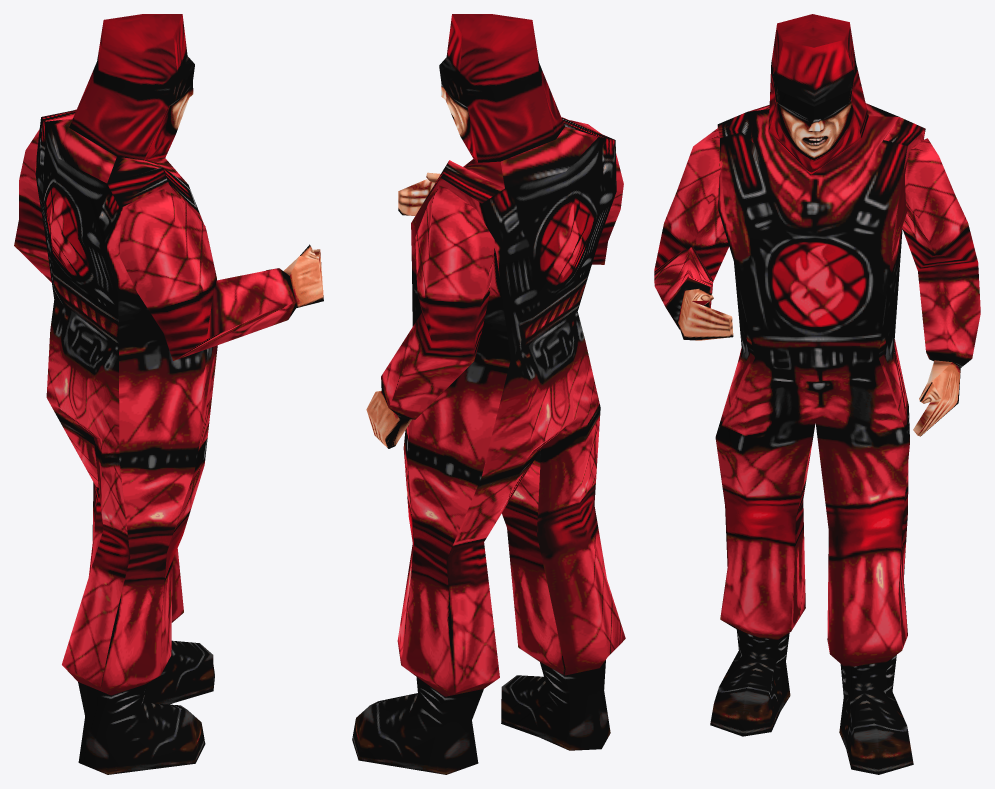
File: pyro2_red.glb
3 views of the same model, side by side, from view 1: azimuth 30°, elevation 25°; view 2: azimuth 150°, elevation 25°; view 3: azimuth 270°, elevation 25° (orthographic). The views are drawn at different scales.
Visible parts, largest first — view 1: pyro2; view 2: pyro2; view 3: pyro2.
Part boxes in pixels (left/top/right/bottom): pyro2: left=14, top=14, right=323, bottom=774; pyro2: left=352, top=14, right=625, bottom=774; pyro2: left=654, top=14, right=980, bottom=774.
Bounding box in the file's own units: 24.98 × 73.11 × 30.72.
2 materials, 2 textured.
